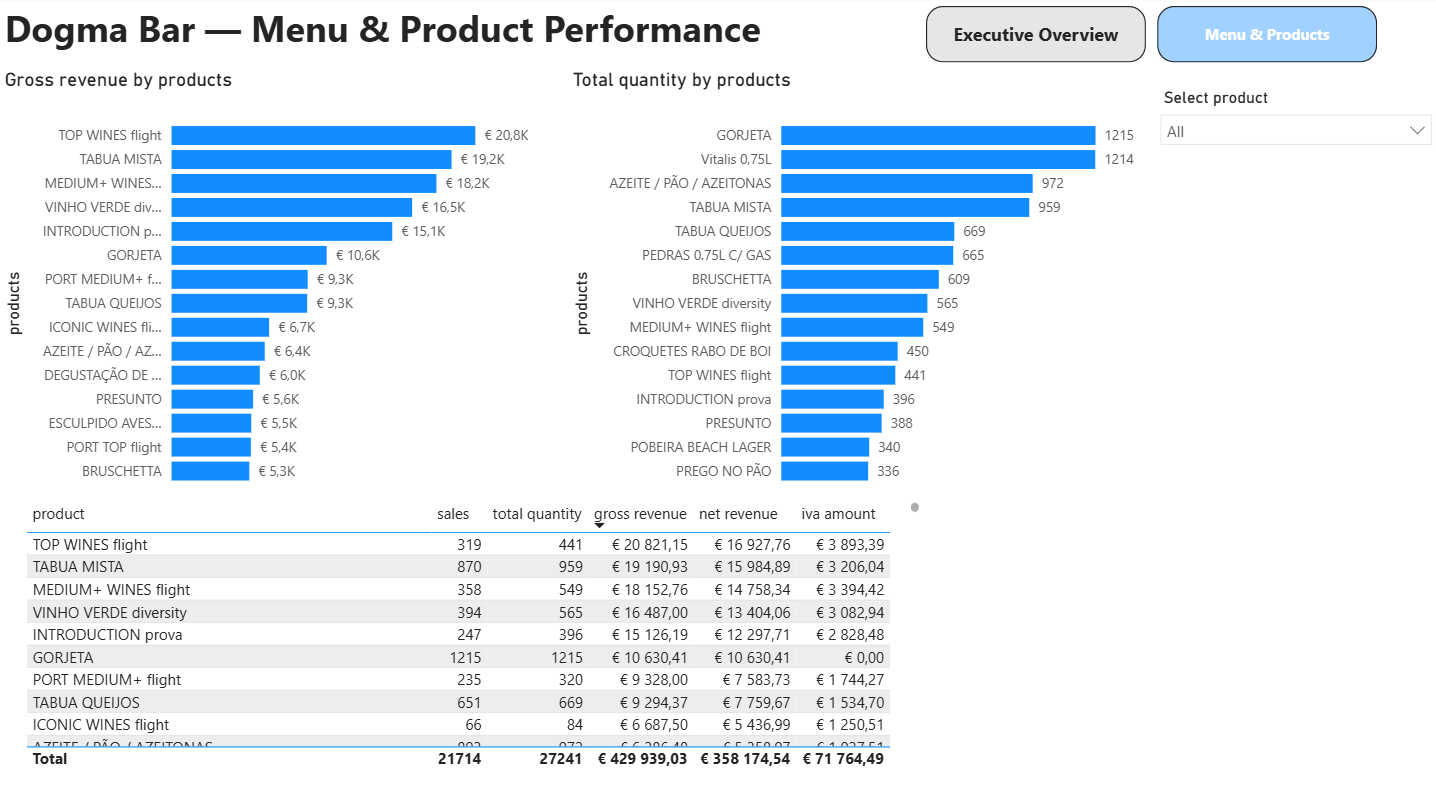

The page's visual inventory and layout, read from the dashboard file:
{"tool":"powerbi","page":{"name":"Menu & Products","canvas":[1280,720],"ordinal":1},"visuals":[{"type":"textbox","box":[0,0,802.5,57.6],"z":0},{"type":"clusteredBarChart","fields":{"Category":["public clean_products.product_name"],"Y":["Sum(public clean_products.gross_revenue)"]},"box":[0,63,474.4,379.5],"z":1000},{"type":"clusteredBarChart","fields":{"Category":["public clean_products.product_name"],"Y":["Sum(public clean_products.total_qty)"]},"box":[503.6,63,516.1,379.5],"z":2000},{"type":"tableEx","fields":{"Values":["public clean_products.product_name","Sum(public clean_products.sales_count)","Sum(public clean_products.total_qty)","Sum(public clean_products.gross_revenue)","Sum(public clean_products.net_revenue)","Sum(public clean_products.iva_amount)"]},"box":[18.6,442.5,803.3,246.5],"z":3000},{"type":"slicer","fields":{"Values":["public clean_products.product_name"]},"box":[1019.7,76.3,260.7,379.5],"z":4000},{"type":"pageNavigator","box":[822,8,400,50],"z":4001}]}

Visuals, with their boxes in screenshot pixels (x1, y1, x2, y2), scaled from the page's 1280x720 canvas onto the 1436x786 screenshot:
textbox: [0,0,900,63]
clusteredBarChart - public clean_products.product_name x Sum(public clean_products.gross_revenue): [0,69,532,483]
clusteredBarChart - public clean_products.product_name x Sum(public clean_products.total_qty): [565,69,1144,483]
tableEx - public clean_products.product_name x Sum(public clean_products.sales_count): [21,483,922,752]
slicer - public clean_products.product_name: [1144,83,1435,498]
pageNavigator: [922,9,1371,63]
